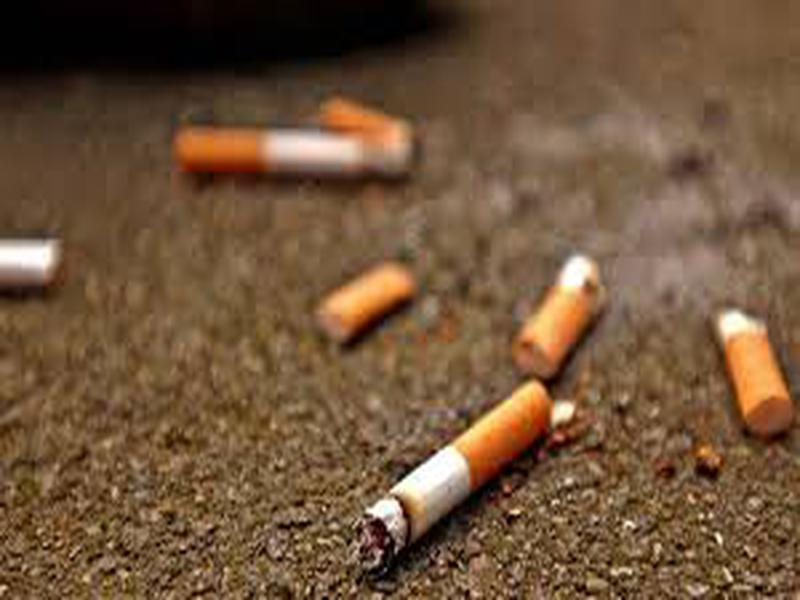burned_cigarette: (338, 381, 562, 564), (501, 245, 607, 374), (701, 302, 800, 439), (308, 252, 422, 351)
